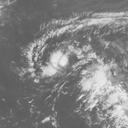cyclone: (27, 39, 89, 94)
